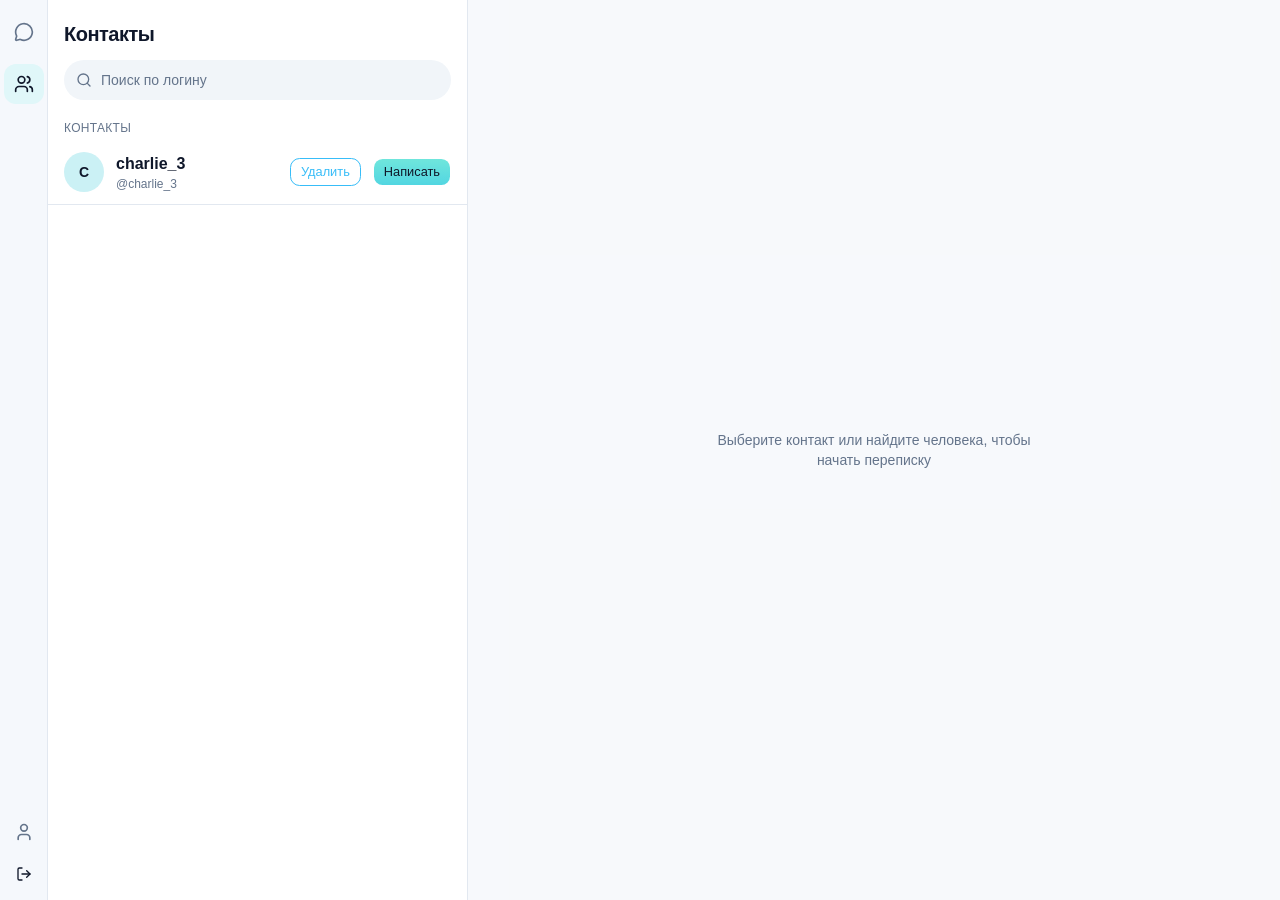
Test case: ContactsPage › keeps the last contacts list and shows retry when reload fails
Expected: the text "charlie_3" is shown, [116,155,185,172]
Click the button with aria-label "Удалить charlie_3": (325,172) [290,158,361,186]
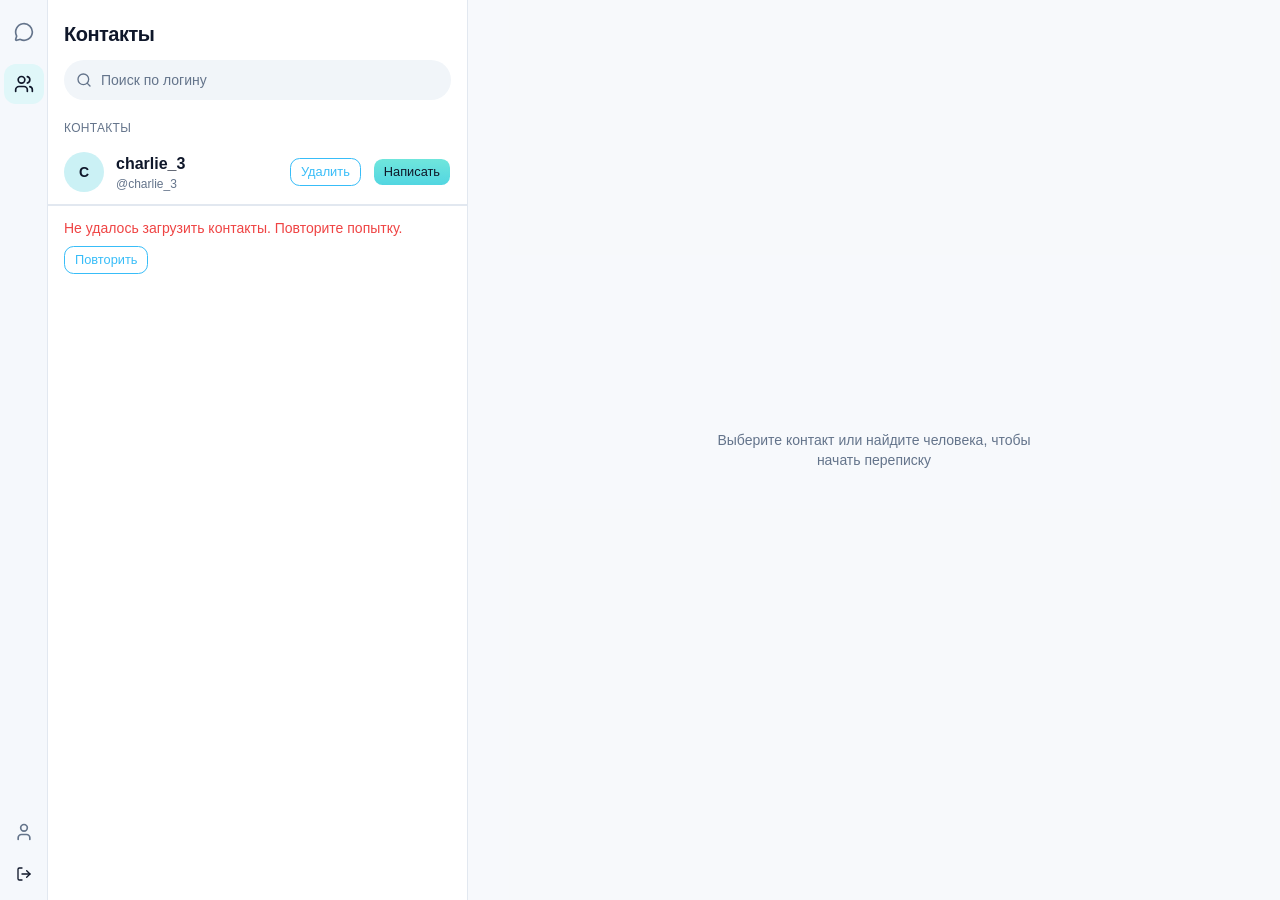
Expected: the text "charlie_3" is shown, [116,155,185,172]
Now the message shows "Не удалось загрузить контакты", box [64,220,402,236]
Now the button "Повторить" is shown, box [64,246,148,274]
